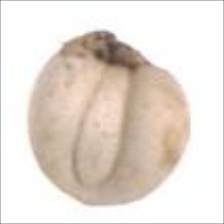L5: (70, 61, 139, 187), (59, 29, 164, 74), (68, 183, 150, 209)
L6: (22, 29, 195, 210)
